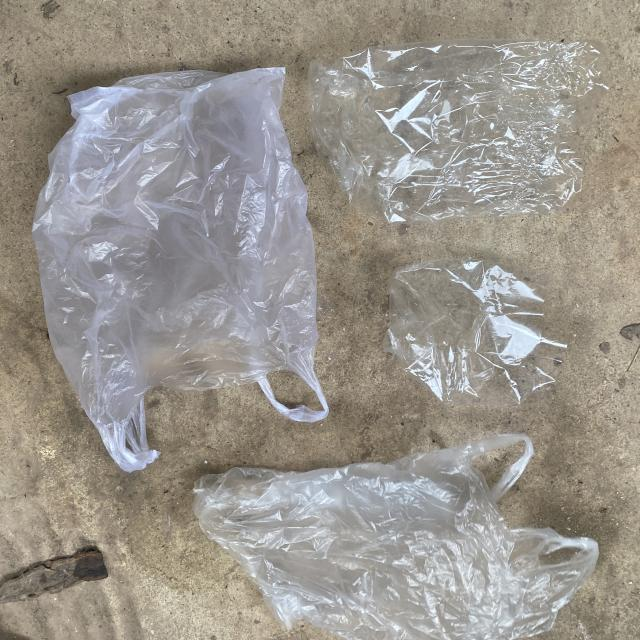Single-layer Plastic: (32, 68, 329, 471), (194, 435, 599, 640), (309, 40, 608, 224), (384, 260, 566, 406)
